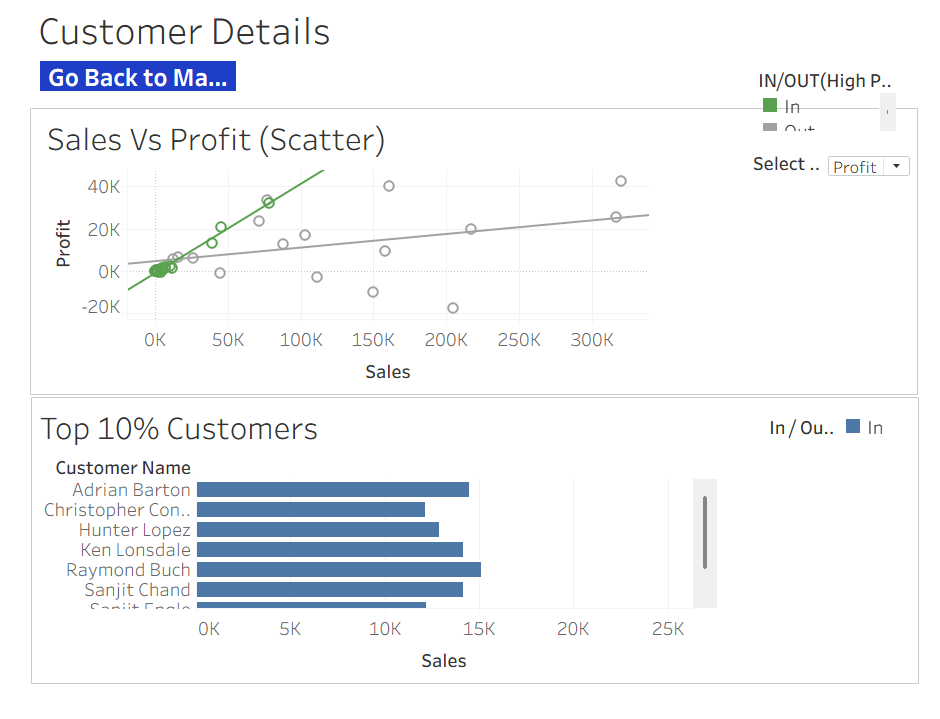

This screenshot's page, from the dashboard's own definition file:
{"tool":"tableau","page":{"name":"Customer detail dashboard","canvas":[900,700],"ordinal":0},"visuals":[{"type":"title","box":[8,8,884,50]},{"type":"dashboard-object","box":[18,68,196,30]},{"type":"legend","title":"Sales Vs Profit (Scatter)","param":"[federated.0w46ouo0xhwxt51fr6fwt11aox24].[io:High Profit Customers (TOP 20%):nk]","box":[736,74,140,64]},{"type":"worksheet","title":"Sales Vs Profit (Scatter)","mark":"Automatic","rows":["Profit"],"cols":["Sales"],"box":[21,120,606,277]},{"type":"parameter","param":"[Parameters].[Sales Parameter]","box":[731,160,160,48]},{"type":"worksheet","title":"Top 10% customers","mark":"Automatic","rows":["Customer Name"],"cols":["Sales"],"box":[14,409,681,277]},{"type":"legend","title":"Top 10% customers","param":"[federated.0w46ouo0xhwxt51fr6fwt11aox24].[io:top 10% customers by sales:nk]","box":[747,421,140,43]}]}

Visuals, with their boxes in screenshot pixels (x1, y1, x2, y2), scaled from the page's 900x700 canvas onto the 940x719 screenshot:
title: region(8, 8, 932, 60)
dashboard-object: region(19, 70, 224, 101)
"Sales Vs Profit (Scatter)" legend: region(769, 76, 915, 142)
"Sales Vs Profit (Scatter)" worksheet: region(22, 123, 655, 408)
parameter: region(763, 164, 931, 214)
"Top 10% customers" worksheet: region(15, 420, 726, 705)
"Top 10% customers" legend: region(780, 432, 926, 477)
